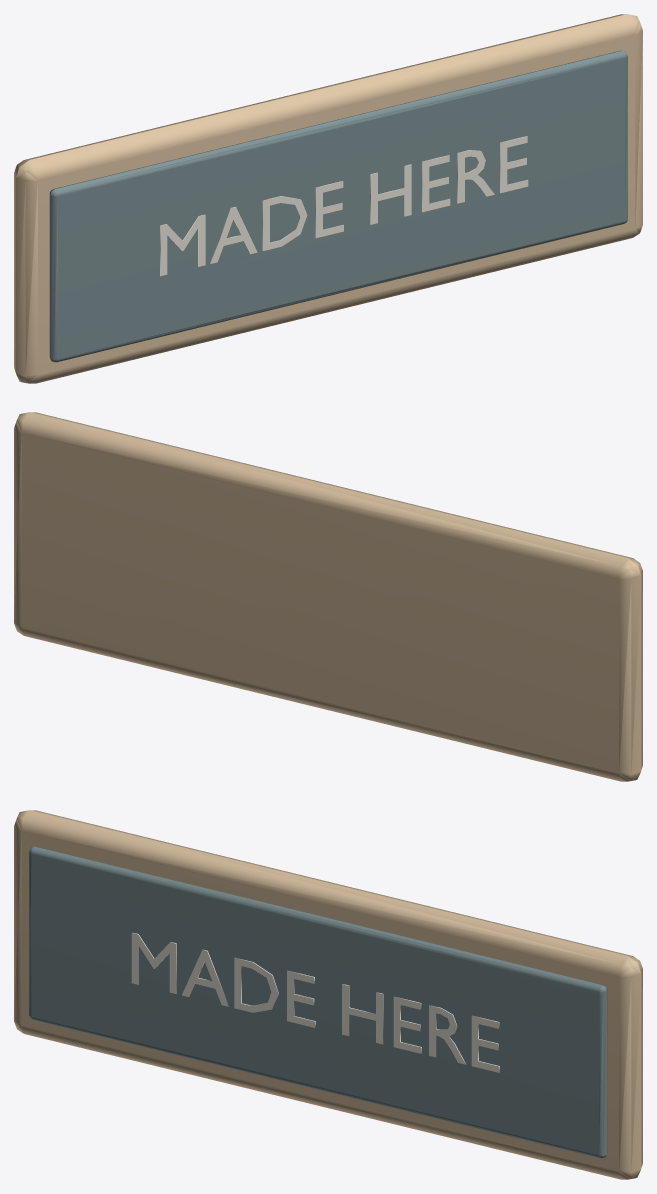
The model's file is KitchenSign.fbx.
The picture shows the model from 3 angles, top to bottom: view 1: azimuth 30°, elevation 25°; view 2: azimuth 150°, elevation 25°; view 3: azimuth 330°, elevation 25°; orthographic projection.
Parts seen in each view (by area): view 1: KitchenSign; view 2: KitchenSign; view 3: KitchenSign.
Part boxes in pixels (x1=…): KitchenSign: x1=14, y1=14, x2=642, y2=383; KitchenSign: x1=14, y1=412, x2=642, y2=781; KitchenSign: x1=14, y1=810, x2=642, y2=1179.
Size of the model in its own units: 1.55 by 0.53 by 0.097.
